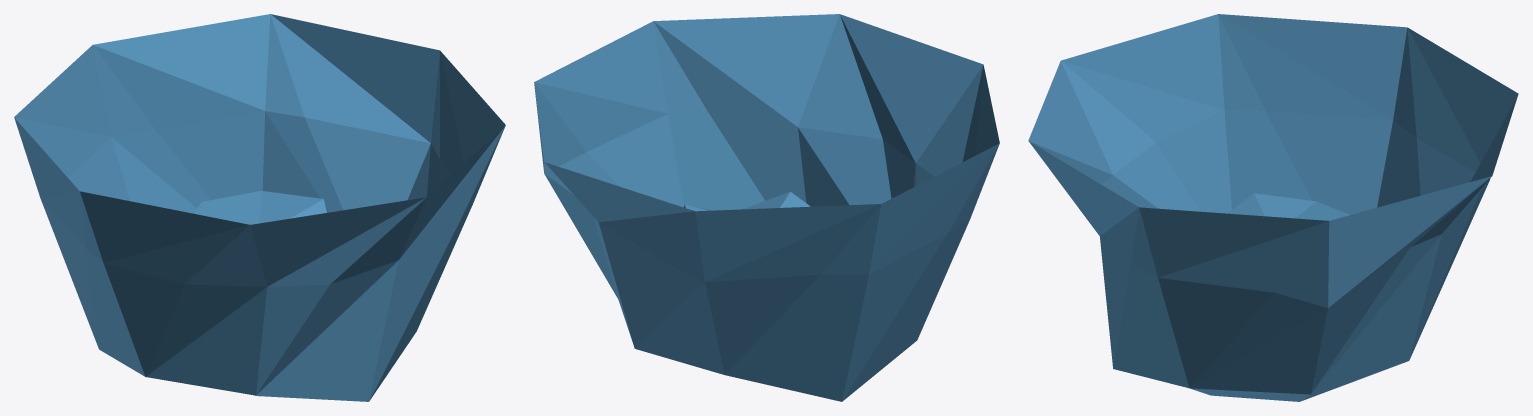
Rendered from sp_plant04.glb.
3 views of the same model, side by side, from view 1: azimuth 30°, elevation 25°; view 2: azimuth 150°, elevation 25°; view 3: azimuth 270°, elevation 25° (orthographic). The views are drawn at different scales.
Visible parts, largest first — view 1: SP_Plant04; view 2: SP_Plant04; view 3: SP_Plant04.
Part boxes in pixels (bbox=[...]): SP_Plant04: bbox=[14, 14, 505, 401]; SP_Plant04: bbox=[534, 14, 999, 401]; SP_Plant04: bbox=[1028, 14, 1518, 401].
Size of the model in its own units: 35.59 by 18.96 by 35.65.
Materials: 1 (1 with a texture image).
